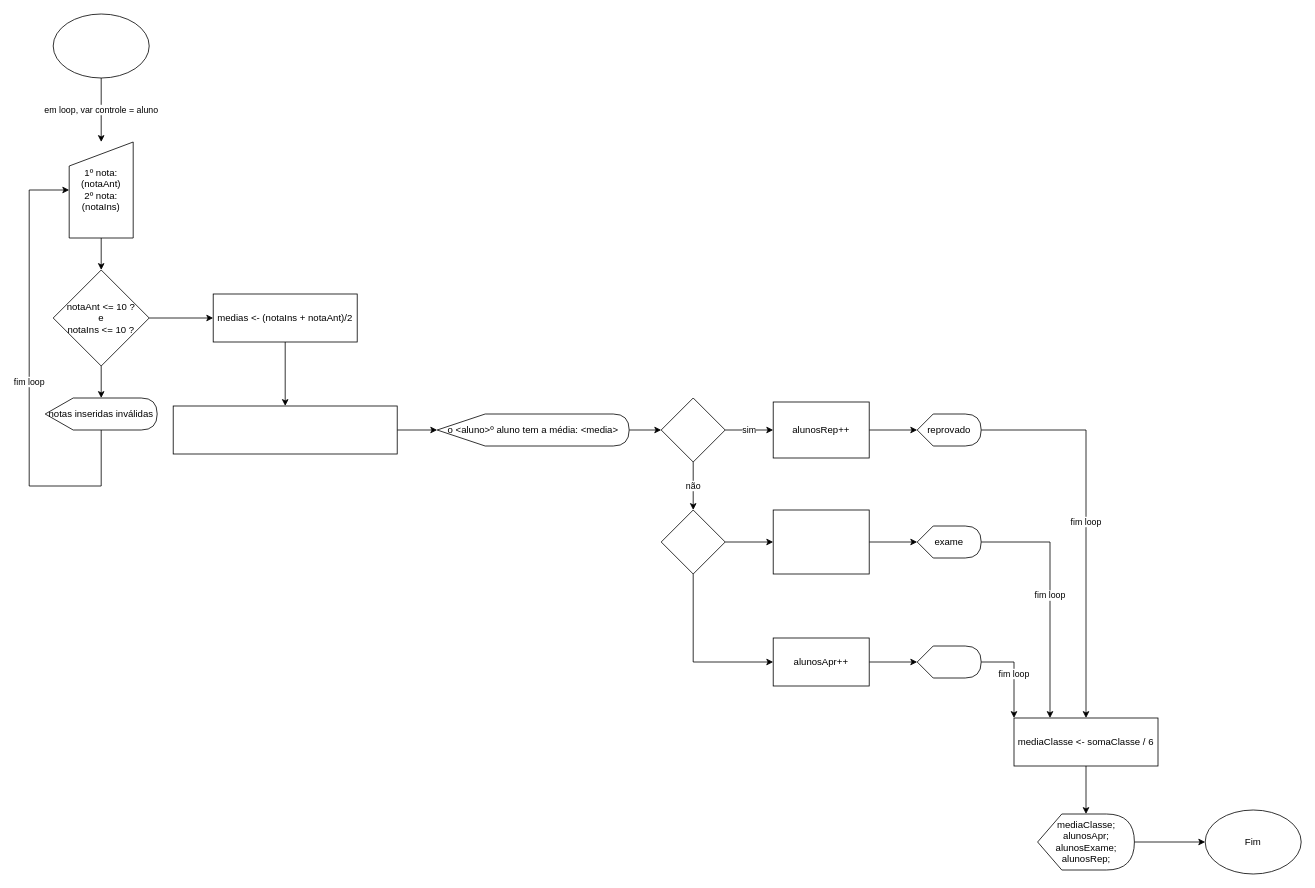
This 1315x888 diagram has some shape labels left out. The centre of each missing label's shape, as x and y in pixels:
"alunosExame++" goes at pixel 820 541.
"aprovado" goes at pixel 948 661.
"Início" goes at pixel 100 45.
"media < 3?" goes at pixel 692 429.
"media >= 3 e media < 7?" goes at pixel 692 541.
"somaMediaClasse <- somaMediaClasse + medias" goes at pixel 284 429.
